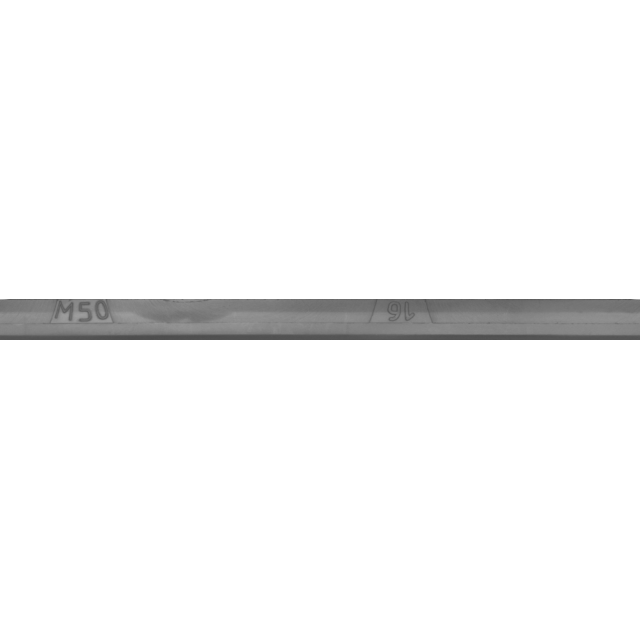mohao: (0, 270, 188, 370)
xuehao: (304, 270, 504, 370)
